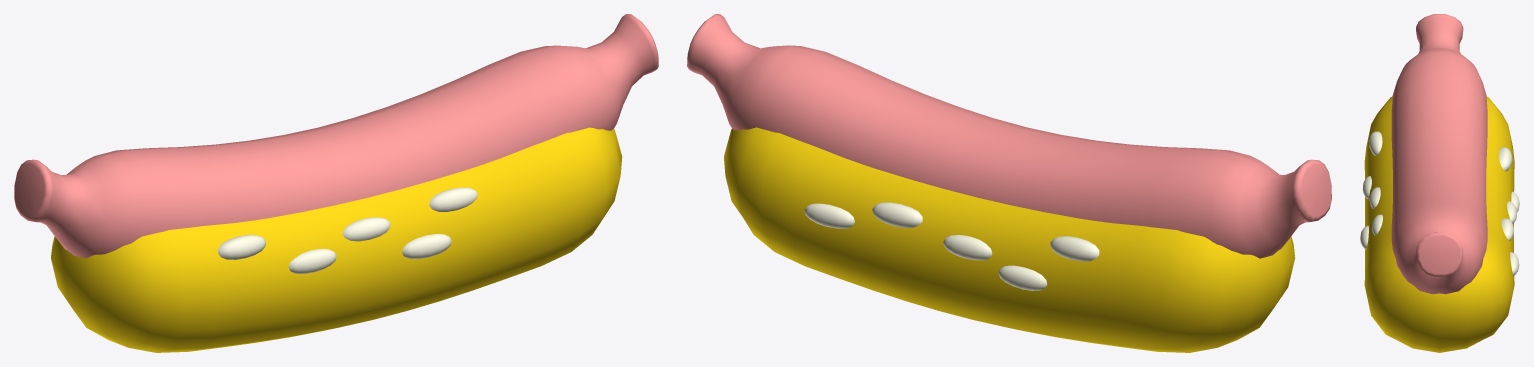
File: Store_12_Hot_Dog_1.glb
3 renders of one model, left to right at view 1: azimuth 30°, elevation 25°; view 2: azimuth 150°, elevation 25°; view 3: azimuth 270°, elevation 25°, orthographic. The views are drawn at different scales.
Visible parts, largest first — view 1: Store_12_Hot_Dog_1; view 2: Store_12_Hot_Dog_1; view 3: Store_12_Hot_Dog_1.
Part boxes in pixels (x1,y1,x2,y2): Store_12_Hot_Dog_1: [14, 14, 658, 352]; Store_12_Hot_Dog_1: [687, 14, 1331, 352]; Store_12_Hot_Dog_1: [1360, 14, 1519, 352].
Bounding box in the file's own units: 0.7034 × 0.2409 × 0.2067.
1 material, 1 textured.
